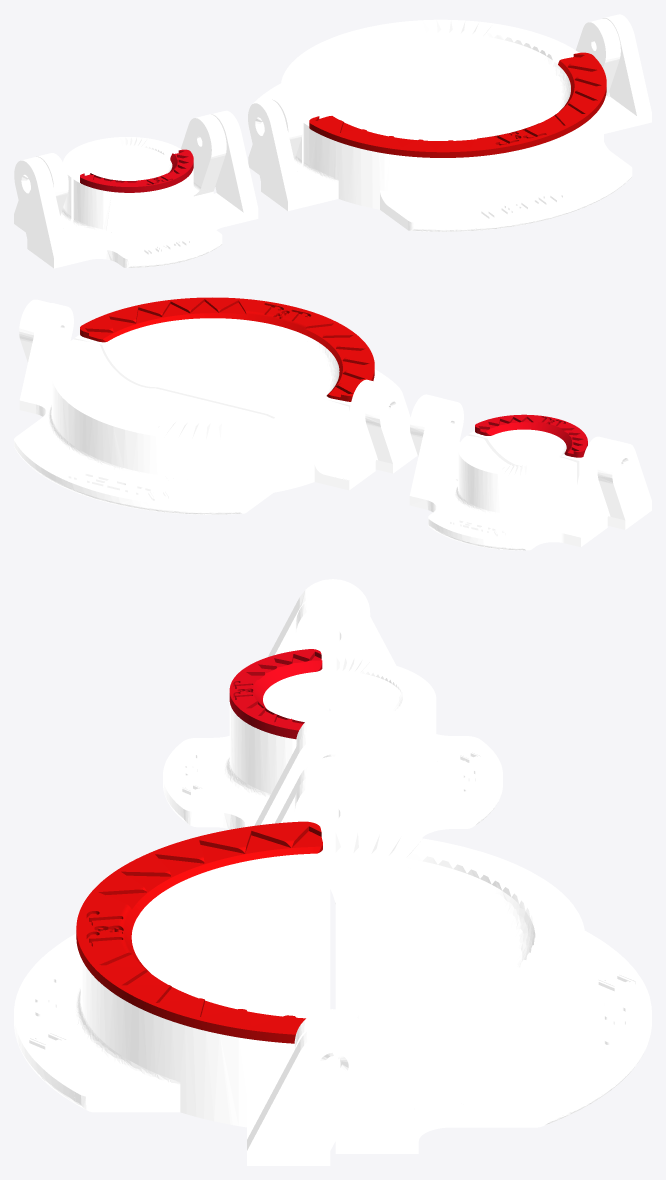
Rendered from repulgadoras 3.gltf.
3 views of the same model, one above another, from view 1: azimuth 30°, elevation 25°; view 2: azimuth 150°, elevation 25°; view 3: azimuth 270°, elevation 25° (orthographic). The views are drawn at different scales.
Parts seen in each view (by area): view 1: obj_0; view 2: obj_0; view 3: obj_0.
Boxes of the visible parts, box(x1,y1,x2,y2) form: obj_0: box(14, 14, 651, 268); obj_0: box(14, 297, 651, 550); obj_0: box(14, 579, 651, 1165).
Bounding box in the file's own units: 0.322 × 0.0442 × 0.1915.
